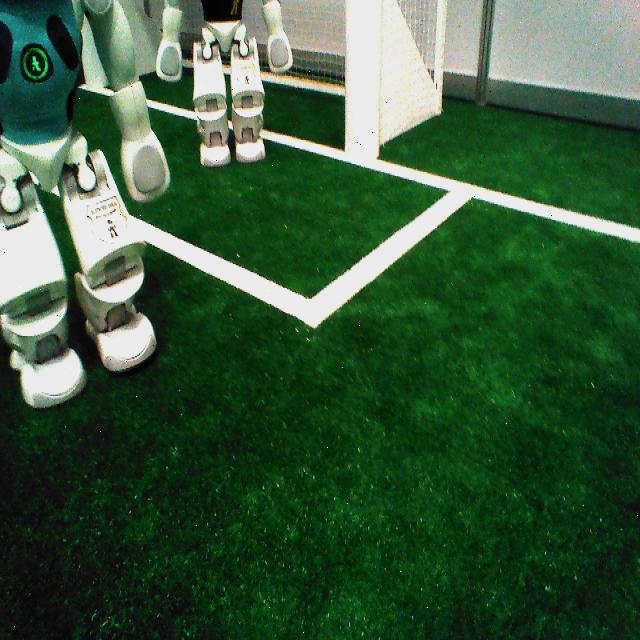goalpost: (345, 3, 384, 158), (80, 18, 111, 86)
